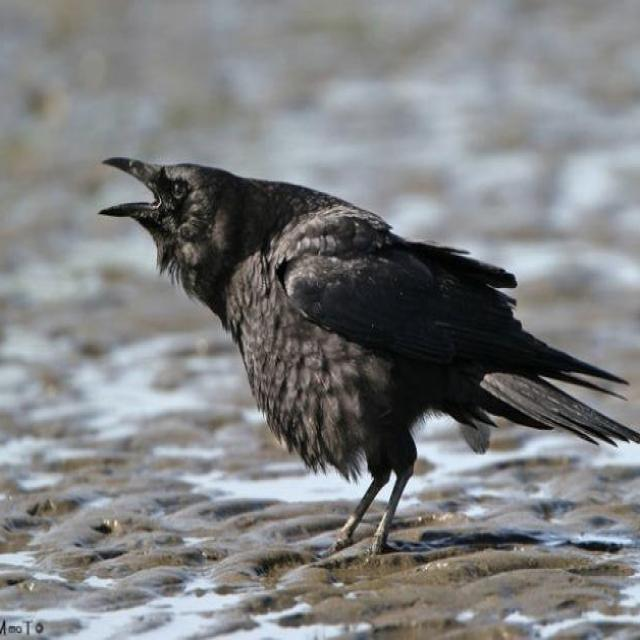crow: (101, 157, 640, 551)
